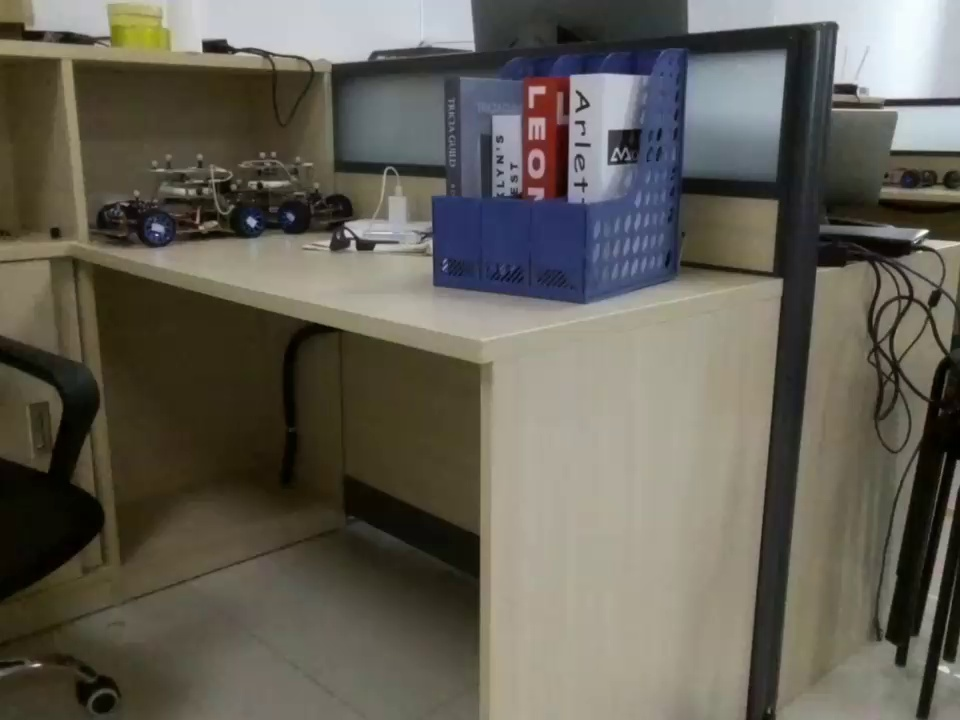files: (431, 54, 689, 311)
